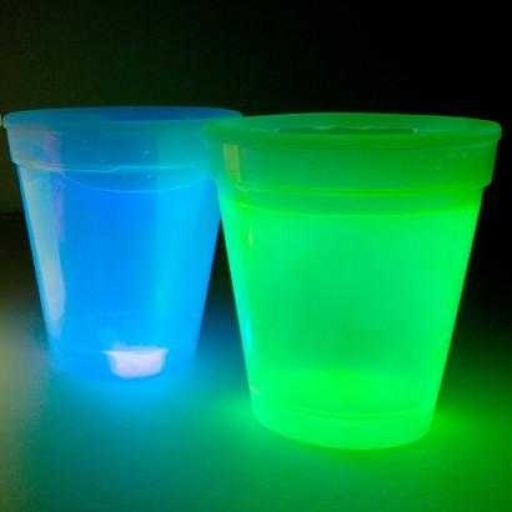cup: (199, 112, 502, 452), (0, 103, 243, 382)
